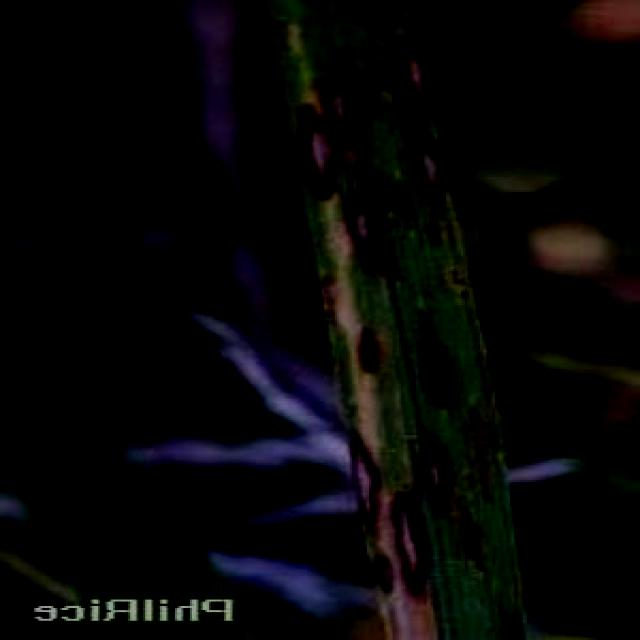Brown_Spot: (328, 322, 502, 596), (290, 18, 450, 268)
